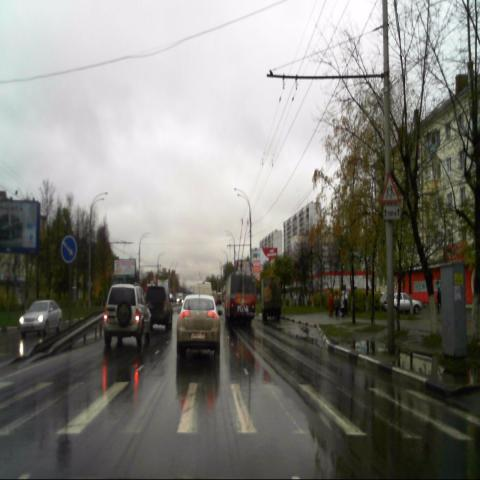4_2_1: (61, 235, 77, 263)
